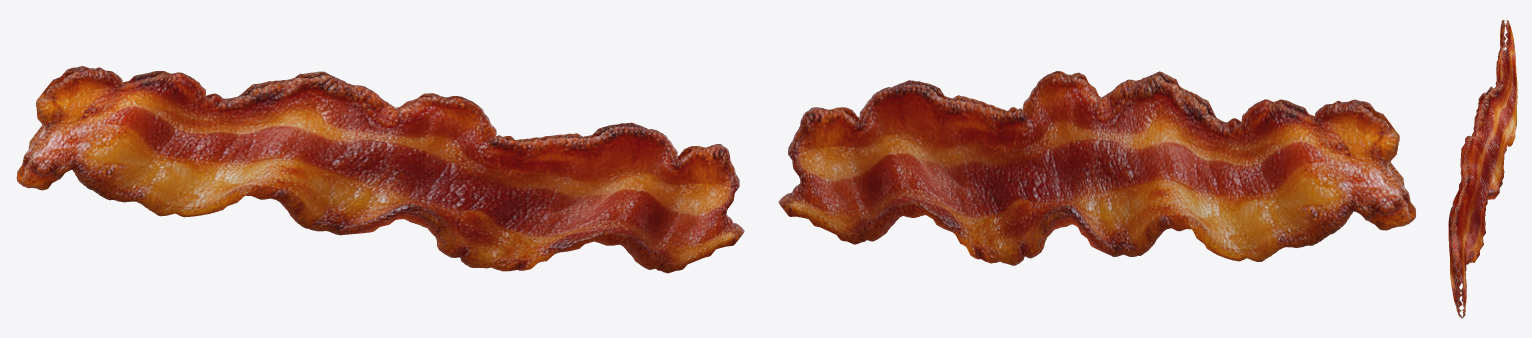
Rendered from tocineta.glb.
3 views of the same model, side by side, from view 1: azimuth 30°, elevation 25°; view 2: azimuth 150°, elevation 25°; view 3: azimuth 270°, elevation 25° (orthographic). The views are drawn at different scales.
Visible parts, largest first — view 1: tocineta; view 2: tocineta; view 3: tocineta.
Boxes of the visible parts, box(x1,y1,x2,y2) form: tocineta: box(16, 66, 744, 273); tocineta: box(778, 71, 1416, 265); tocineta: box(1448, 20, 1517, 318).
Size of the model in its own units: 1.98 by 0.8654 by 0.3446.
Materials: 1 (1 with a texture image).
